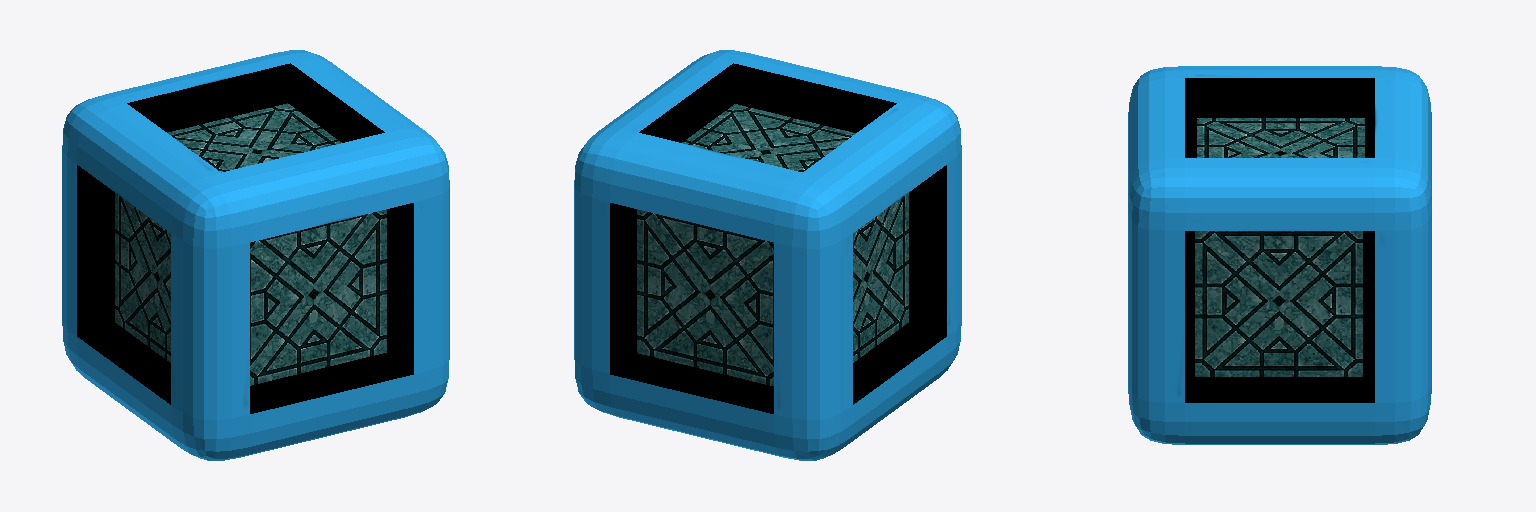
3 renders of one model, left to right at view 1: azimuth 30°, elevation 25°; view 2: azimuth 150°, elevation 25°; view 3: azimuth 270°, elevation 25°, orthographic.
Visible parts, largest first — view 1: Cube.011_Cube.012; view 2: Cube.011_Cube.012; view 3: Cube.011_Cube.012.
Part boxes in pixels (bbox=[...]): Cube.011_Cube.012: bbox=[62, 50, 449, 460]; Cube.011_Cube.012: bbox=[574, 50, 961, 460]; Cube.011_Cube.012: bbox=[1128, 66, 1431, 444].
Bounding box in the file's own units: 2 × 2 × 2.
Materials: 1 (1 with a texture image).